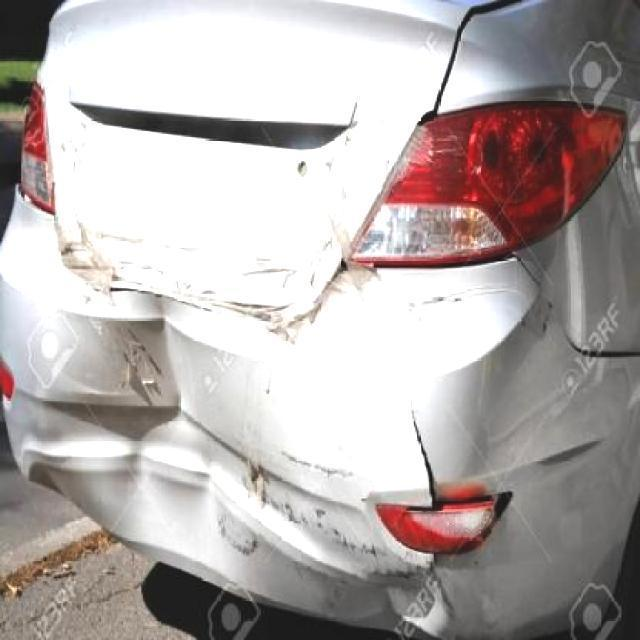minor: (402, 289, 534, 374), (314, 160, 358, 288)
moderate: (0, 280, 438, 640), (97, 237, 312, 328), (55, 122, 105, 271)
